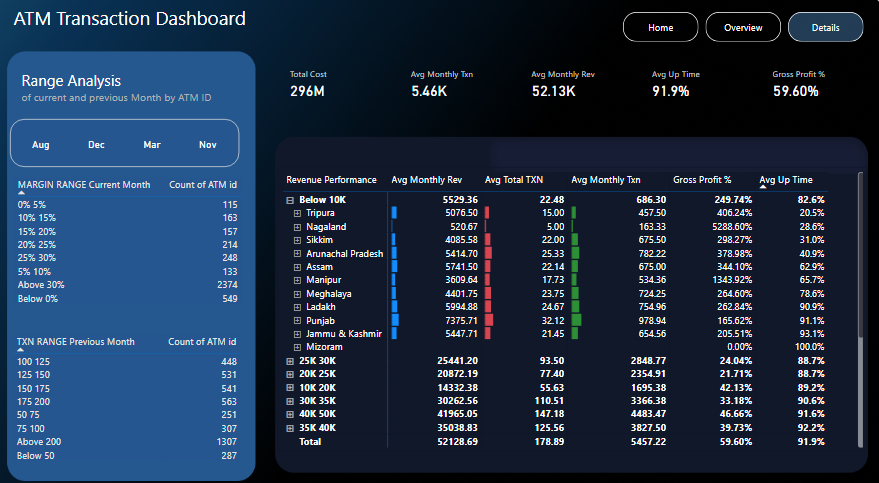

Layout of this report page (visuals, bound fields, positions):
{"tool":"powerbi","page":{"name":"Details","canvas":[1280,720],"ordinal":2},"visuals":[{"type":"tableEx","fields":{"Values":["Dataset.MARGIN RANGE Current Month","Dataset.ATM id"]},"box":[34,260.8,347.2,198.4],"z":0},{"type":"tableEx","fields":{"Values":["Dataset.TXN RANGE Previous Month","Dataset.ATM id"]},"box":[32.6,483.3,347.2,195.6],"z":1000},{"type":"textbox","box":[45.4,107.7,324.6,63.8],"z":2000},{"type":"advancedSlicerVisual","fields":{"Values":["Dataset.Short Month"]},"box":[34,182.8,324.6,68],"z":3000},{"type":"pivotTable","fields":{"Rows":["Dataset.Revenue Performance","Dataset.STATE","Dataset.ATM id"],"Values":["Avg(Dataset.Monthly Rev)","Avg(Dataset.AVG Total TXN)","Avg(Dataset.Monthly Txn)","Dataset.Gross Profit Percentage","Avg(Dataset.Up Time)"]},"box":[413.9,250.9,836.2,402.5],"z":4000},{"type":"textbox","box":[34,15.6,345.8,73.7],"z":5000},{"type":"pageNavigator","box":[902.8,31.2,341.6,42.5],"z":6000},{"type":"cardVisual","fields":{"Data":["Sum(Dataset. Total Cost  )","Avg(Dataset.Monthly Txn)","Avg(Dataset.Monthly Rev)","Avg(Dataset.Up Time)","Dataset.Gross Profit Percentage"]},"box":[414.3,74.3,865.7,118.6],"z":7000}]}

Visuals, with their boxes in screenshot pixels (x1, y1, x2, y2), scaled from the page's 1280x720 canvas onto the 879x483 screenshot:
tableEx - Dataset.MARGIN RANGE Current Month x Dataset.ATM id: 23 175 262 308
tableEx - Dataset.TXN RANGE Previous Month x Dataset.ATM id: 22 324 261 455
textbox: 31 72 254 115
advancedSlicerVisual - Dataset.Short Month: 23 123 246 168
pivotTable - Dataset.Revenue Performance x Dataset.STATE: 284 168 858 438
textbox: 23 10 261 60
pageNavigator: 620 21 855 49
cardVisual - Sum(Dataset. Total Cost  ) x Avg(Dataset.Monthly Txn): 285 50 878 129
